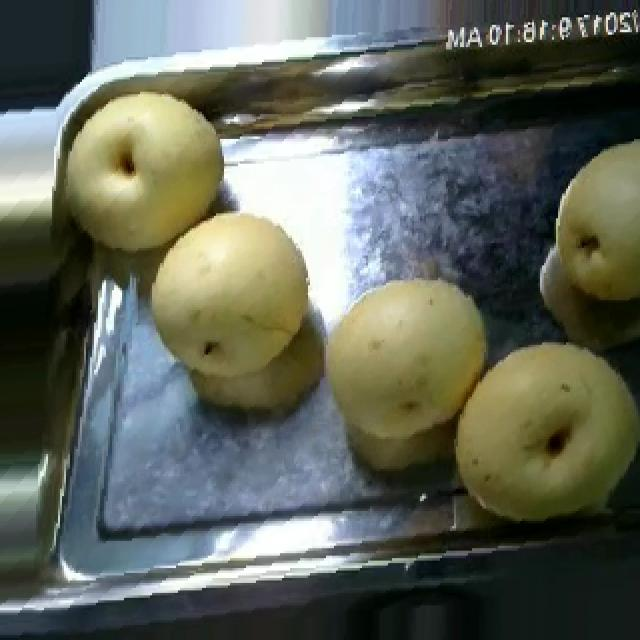Fruit: (304, 255, 512, 479), (436, 313, 640, 538), (132, 194, 326, 426), (52, 77, 240, 268), (516, 127, 640, 352)
